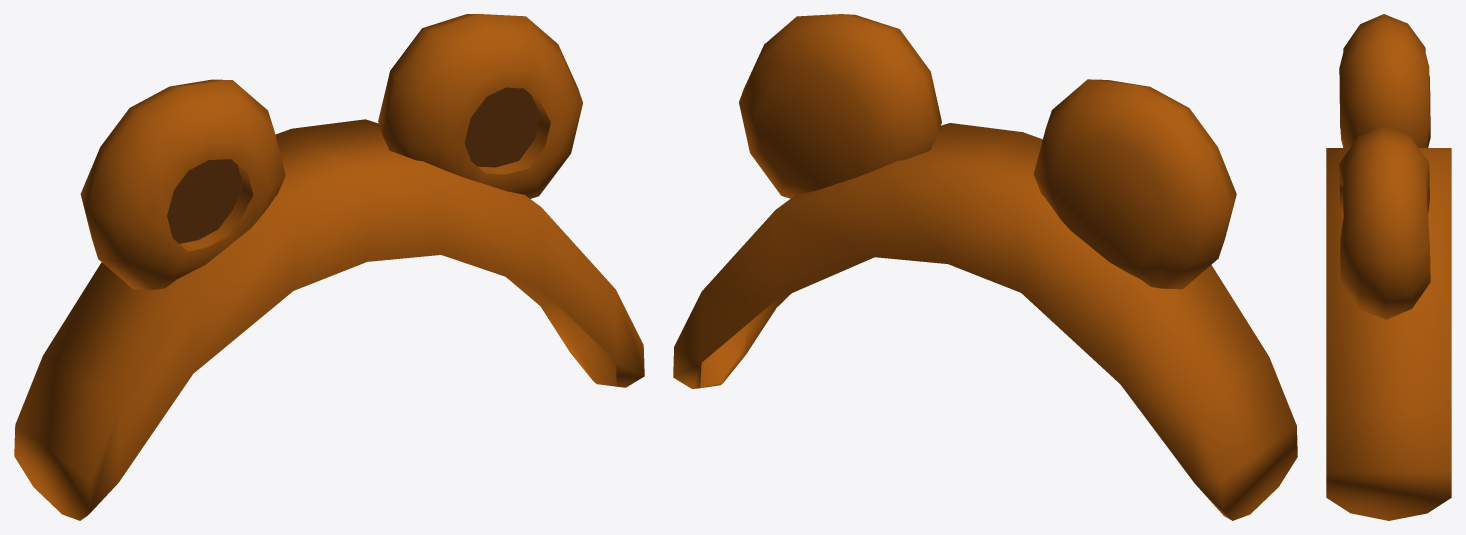
File: Hat_Bear.fbx
3 views of the same model, side by side, from view 1: azimuth 30°, elevation 25°; view 2: azimuth 150°, elevation 25°; view 3: azimuth 270°, elevation 25° (orthographic). The views are drawn at different scales.
Parts seen in each view (by area): view 1: Bear, BearEars; view 2: Bear, BearEars; view 3: Bear, BearEars.
Boxes of the visible parts, <box> form: Bear: <box>14,119,644,520</box>; BearEars: <box>80,14,582,289</box>; Bear: <box>673,123,1297,520</box>; BearEars: <box>739,14,1236,289</box>; Bear: <box>1326,148,1451,520</box>; BearEars: <box>1339,14,1430,319</box>.
Bounding box in the file's own units: 101 × 69.9 × 23.89.
